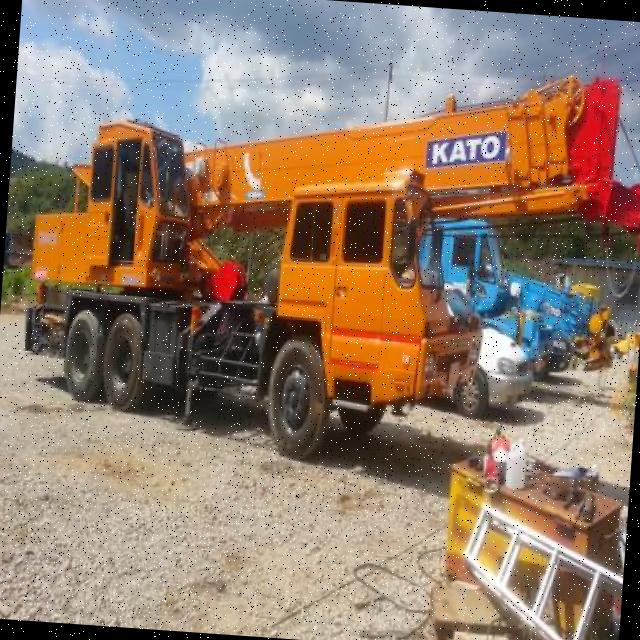Mobile Crane: (14, 36, 640, 485)
